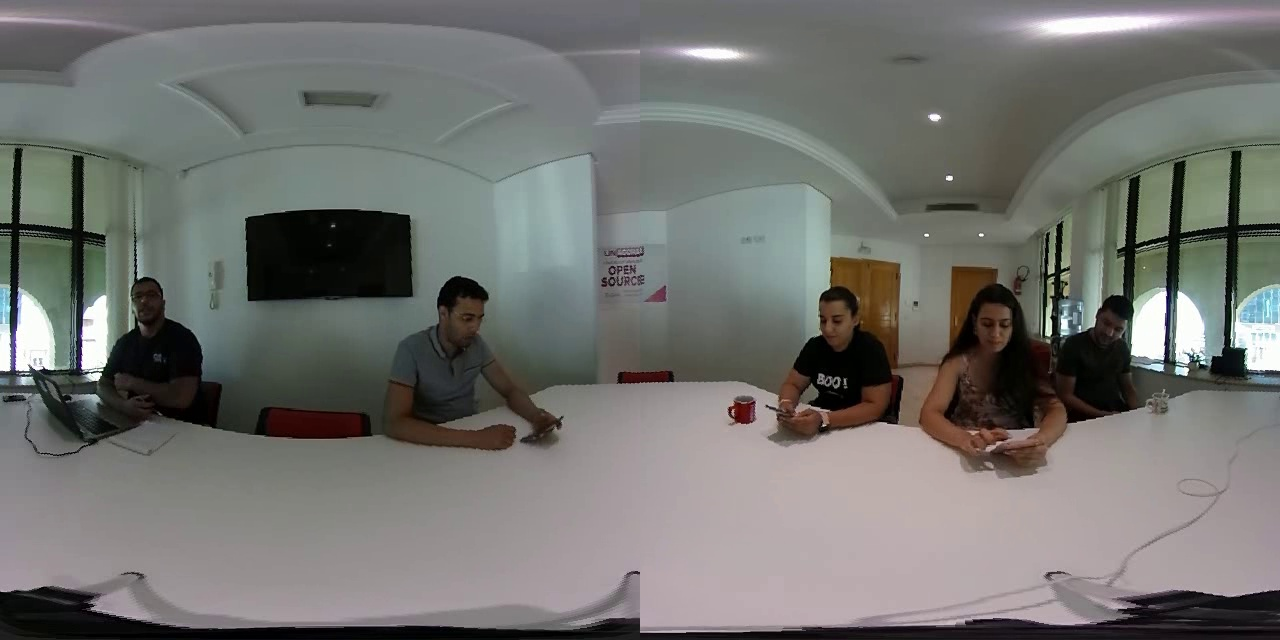person: (381, 267, 530, 444), (767, 274, 899, 451), (920, 279, 1039, 463), (89, 273, 214, 420), (1048, 292, 1147, 408)
